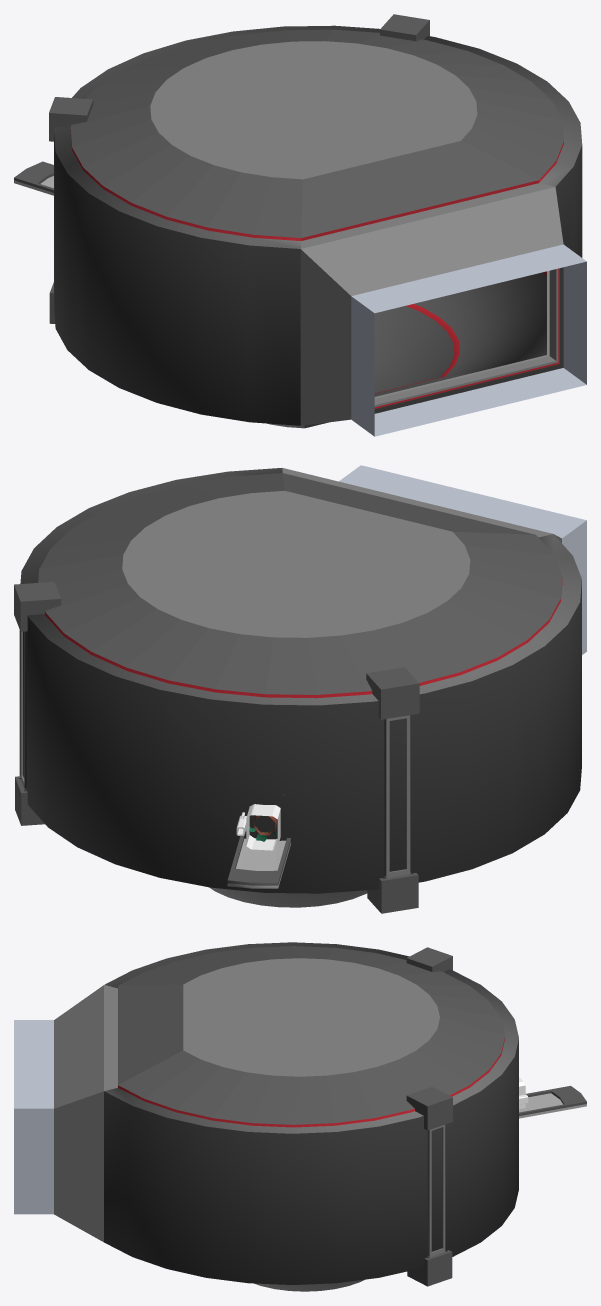
The model's file is room05.glb.
3 renders of one model, top to bottom at view 1: azimuth 30°, elevation 25°; view 2: azimuth 150°, elevation 25°; view 3: azimuth 270°, elevation 25°, orthographic. The views are drawn at different scales.
Visible parts, largest first — view 1: Room05; view 2: Room05; view 3: Room05.
Boxes of the visible parts, bbox=[...] form: Room05: bbox=[14, 14, 586, 436]; Room05: bbox=[14, 465, 586, 913]; Room05: bbox=[14, 942, 586, 1291].
Bounding box in the file's own units: 38.88 × 22.79 × 49.16.
2 materials, 1 textured.
